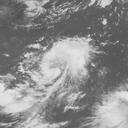cyclone: (30, 36, 90, 101)
